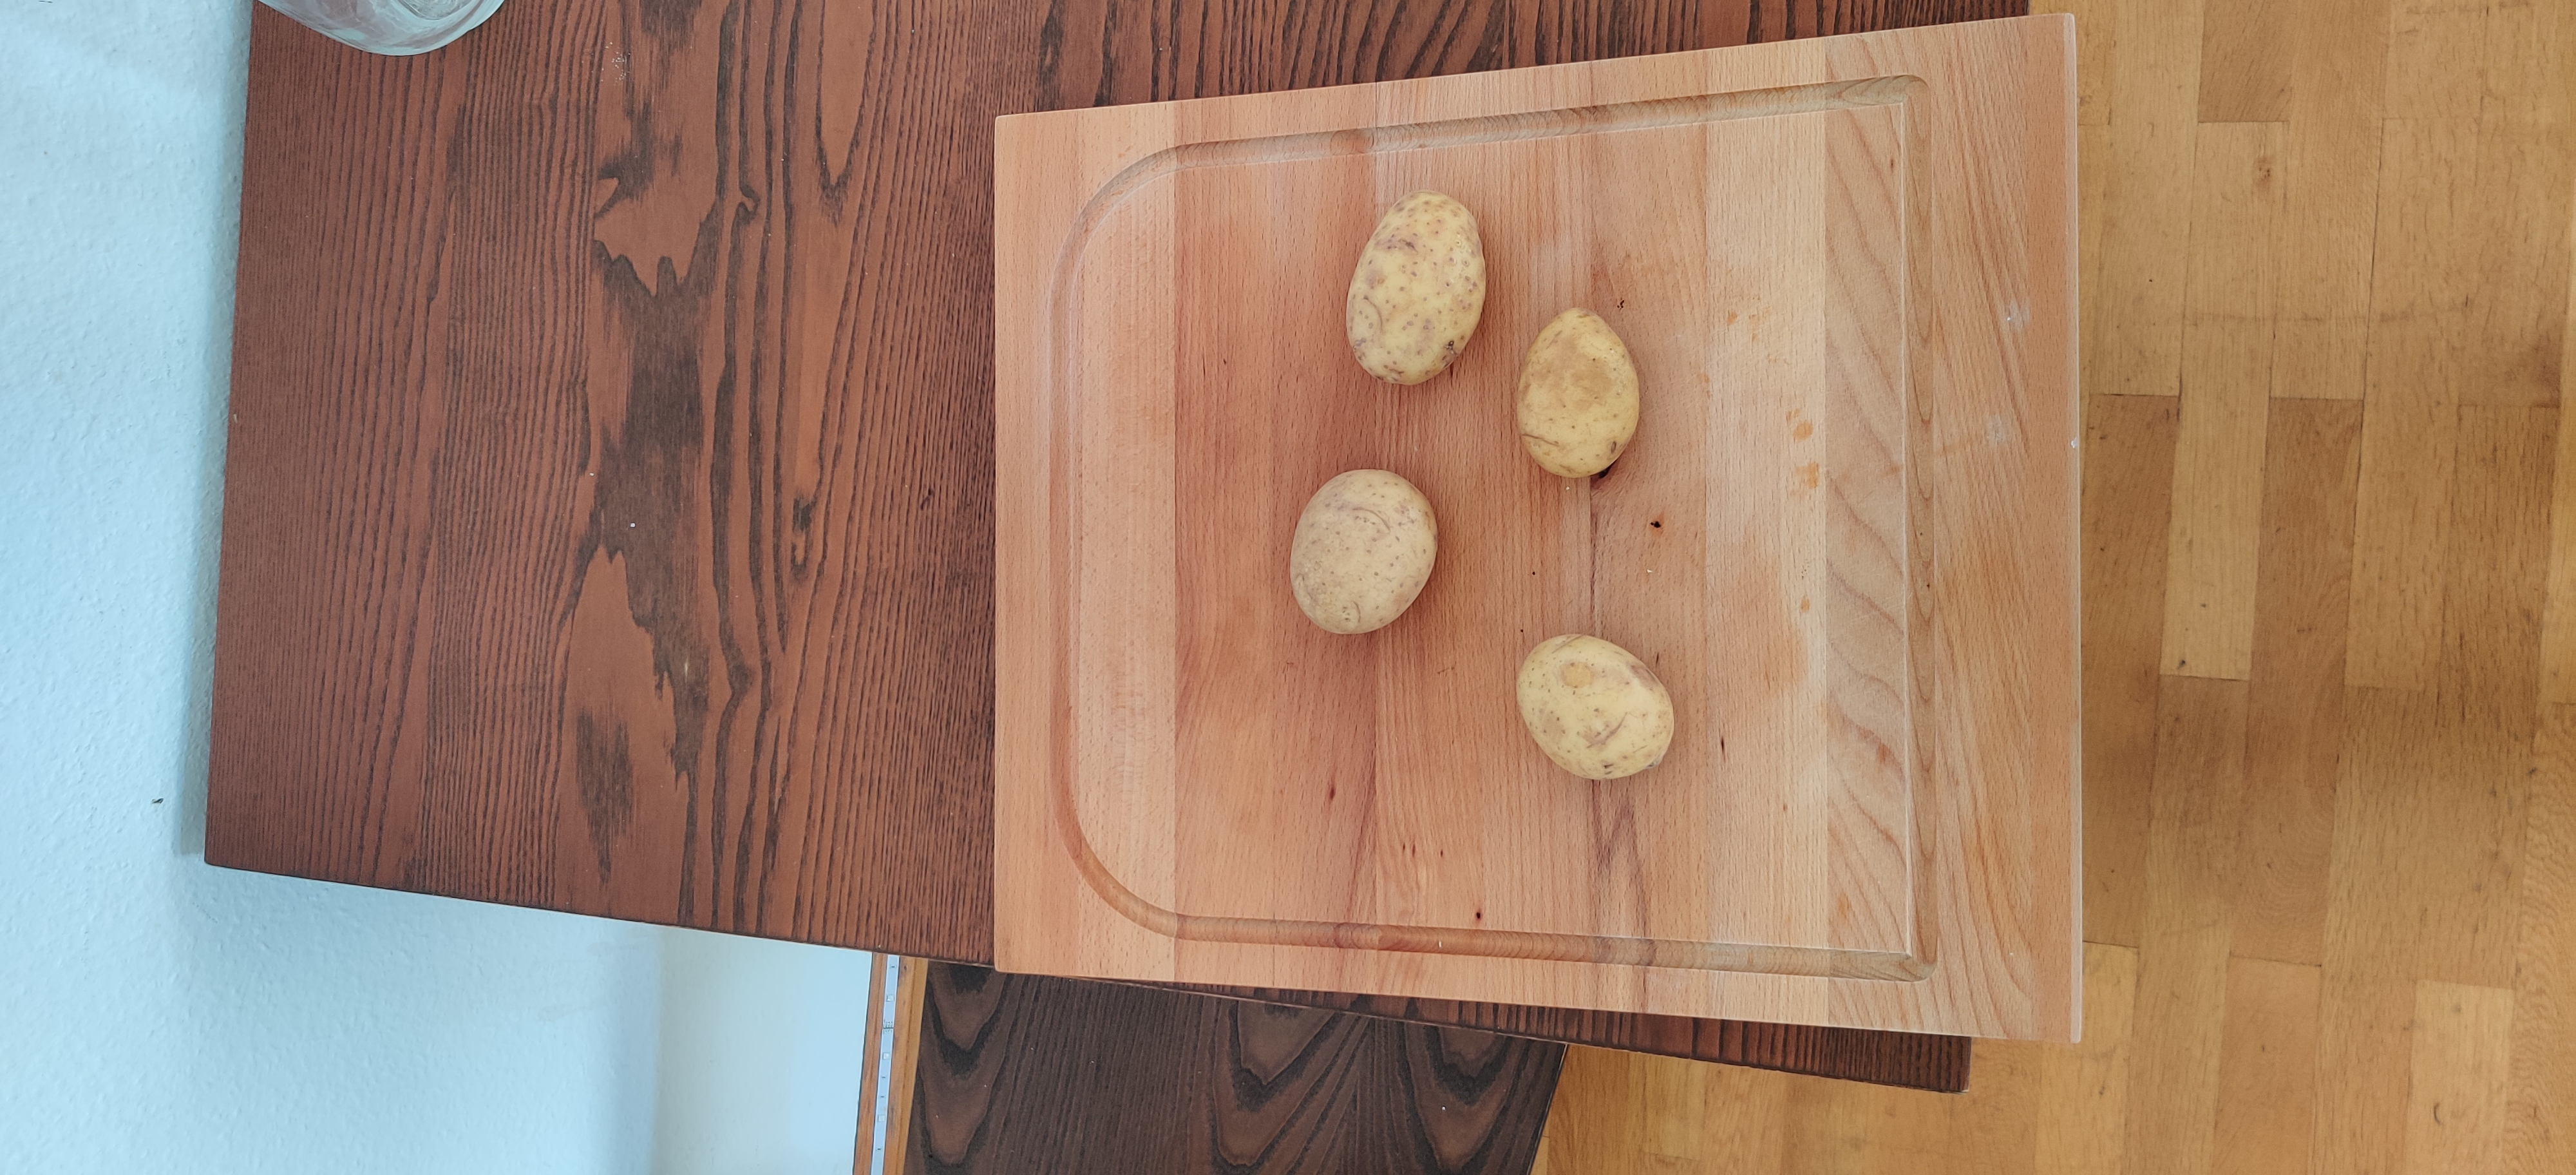Kartoffel: (1347, 191, 1488, 385), (1291, 470, 1437, 634), (1515, 633, 1676, 781), (1518, 306, 1640, 480)
